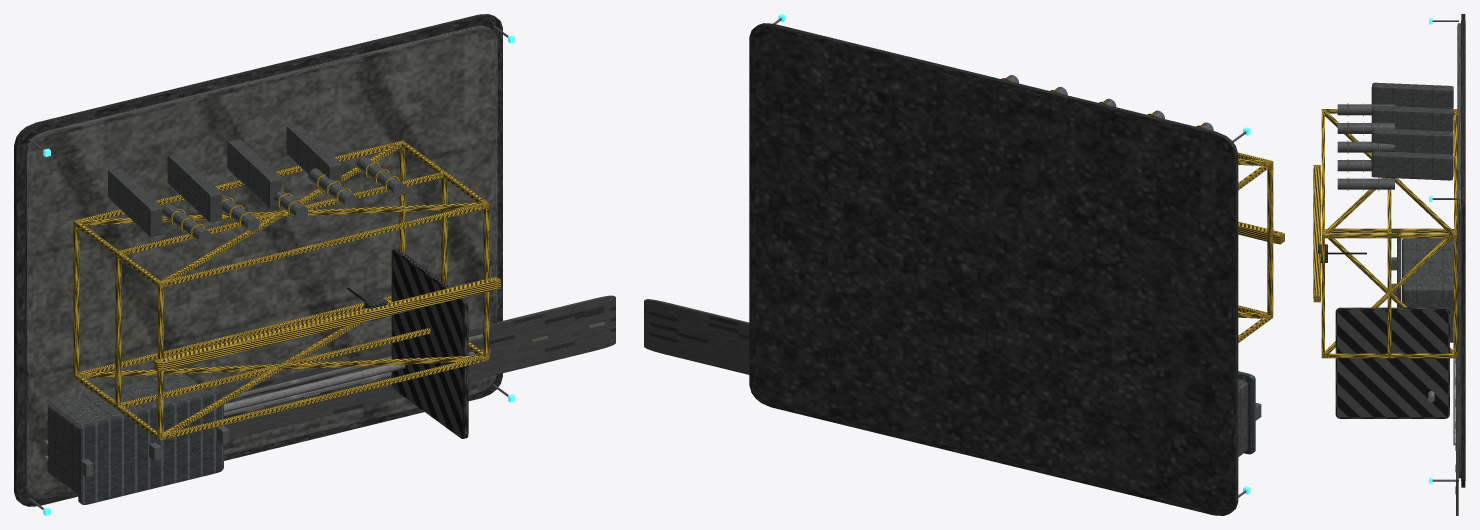
The model's file is b-18-artillery-foundry-lod0.glb.
3 views of the same model, side by side, from view 1: azimuth 30°, elevation 25°; view 2: azimuth 150°, elevation 25°; view 3: azimuth 270°, elevation 25° (orthographic). The views are drawn at different scales.
Parts seen in each view (by area): view 1: foundation_inner_pad, foundation, factory_exit_road, parts_store_roof, factory_door, parts_store_main_hall, rail_crane_bridge, rail_crane_brace_a_-3, rail_crane_beam_x_2_n, rail_crane_beam_x_2_s, factory_buttress_0, factory_buttress_1 (+19 smaller); view 2: foundation, factory_exit_road, rail_crane_beam_y_2_w, parts_store_roof, parts_store_main_hall; view 3: factory_door, parts_store_main_hall, foundation, factory_buttress_3, foundation_inner_pad, factory_buttress_0, factory_buttress_1, factory_buttress_2, rail_crane_bridge, rail_crane_column_e_n, rail_crane_column_e_s, factory_exhaust_4_stack (+18 smaller).
Boxes of the visible parts, x1,y1,x2,y2 form: foundation_inner_pad: [24, 26, 497, 498]; foundation: [14, 14, 502, 506]; factory_exit_road: [211, 295, 615, 439]; parts_store_roof: [78, 392, 223, 504]; factory_door: [391, 248, 468, 438]; parts_store_main_hall: [47, 374, 211, 494]; rail_crane_bridge: [153, 277, 500, 371]; rail_crane_brace_a_-3: [79, 355, 482, 378]; rail_crane_beam_x_2_n: [157, 203, 488, 287]; rail_crane_beam_x_2_s: [157, 356, 488, 440]; factory_buttress_0: [108, 168, 162, 236]; factory_buttress_1: [167, 153, 221, 221]; foundation: [749, 23, 1238, 515]; factory_exit_road: [644, 299, 749, 374]; rail_crane_beam_y_2_w: [1267, 160, 1273, 315]; parts_store_roof: [1238, 371, 1255, 454]; parts_store_main_hall: [1238, 379, 1247, 456]; factory_door: [1335, 307, 1449, 418]; parts_store_main_hall: [1402, 238, 1453, 342]; foundation: [1461, 14, 1465, 487]; factory_buttress_3: [1371, 151, 1453, 180]; foundation_inner_pad: [1457, 23, 1461, 478]; factory_buttress_0: [1371, 82, 1453, 108]; factory_buttress_1: [1371, 105, 1453, 131]; factory_buttress_2: [1371, 128, 1453, 154]; rail_crane_bridge: [1313, 165, 1320, 302]; rail_crane_column_e_n: [1325, 233, 1453, 238]; rail_crane_column_e_s: [1325, 353, 1453, 358]; factory_exhaust_4_stack: [1337, 178, 1394, 189].
Size of what is drawn, in the model's own units: 24.5 by 15 by 6.9.
Materials: 12 (12 with a texture image).
